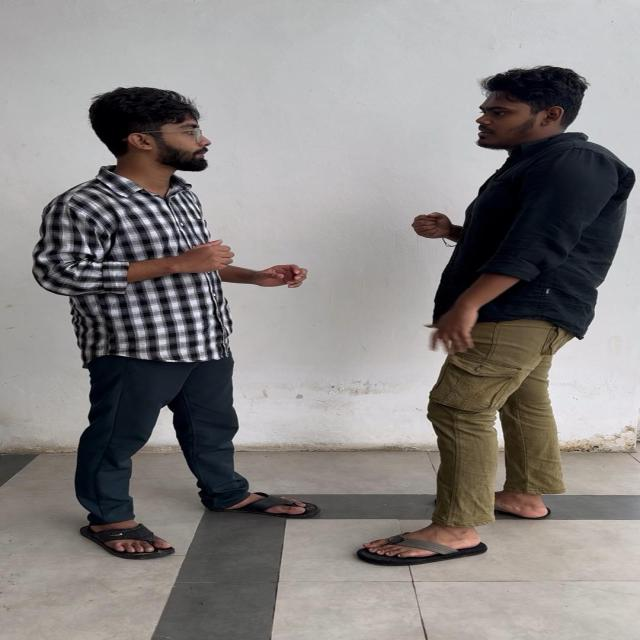fight: (8, 42, 330, 570), (369, 56, 609, 577)
